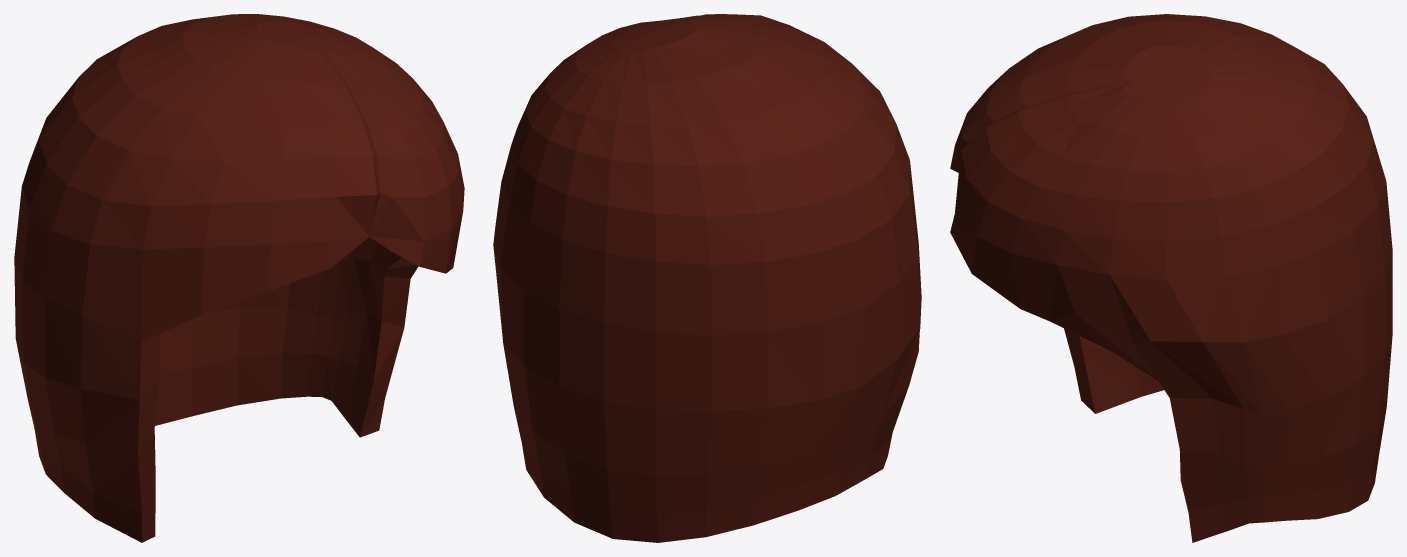
The model's file is character_rogueHair.obj.
3 renders of one model, left to right at view 1: azimuth 30°, elevation 25°; view 2: azimuth 150°, elevation 25°; view 3: azimuth 270°, elevation 25°, orthographic. The views are drawn at different scales.
Parts seen in each view (by area): view 1: character_rogueHair_Cube.018; view 2: character_rogueHair_Cube.018; view 3: character_rogueHair_Cube.018.
Boxes of the visible parts, bbox=[...] form: character_rogueHair_Cube.018: bbox=[14, 14, 464, 542]; character_rogueHair_Cube.018: bbox=[493, 14, 921, 542]; character_rogueHair_Cube.018: bbox=[950, 14, 1392, 542].
Size of the model in its own units: 1.12 by 1.22 by 1.09.
